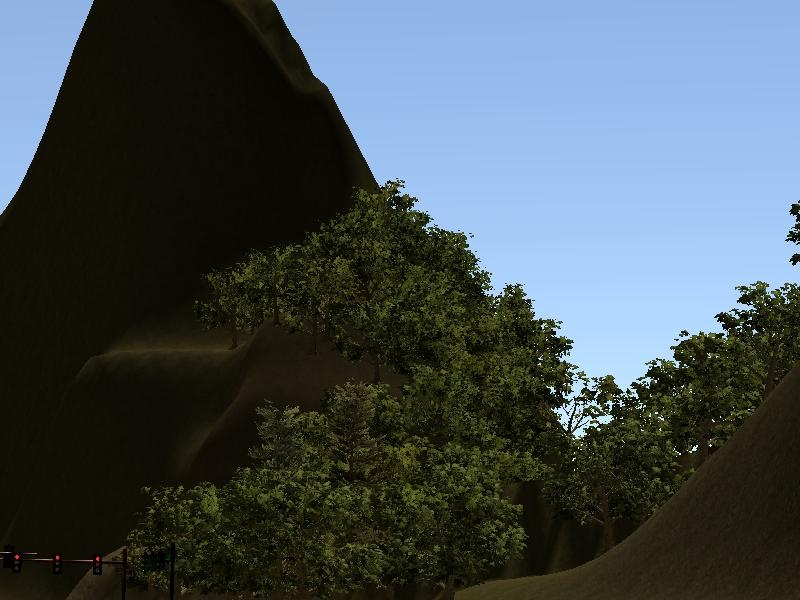Red: (53, 553, 63, 575), (12, 553, 22, 573), (93, 554, 102, 576)
